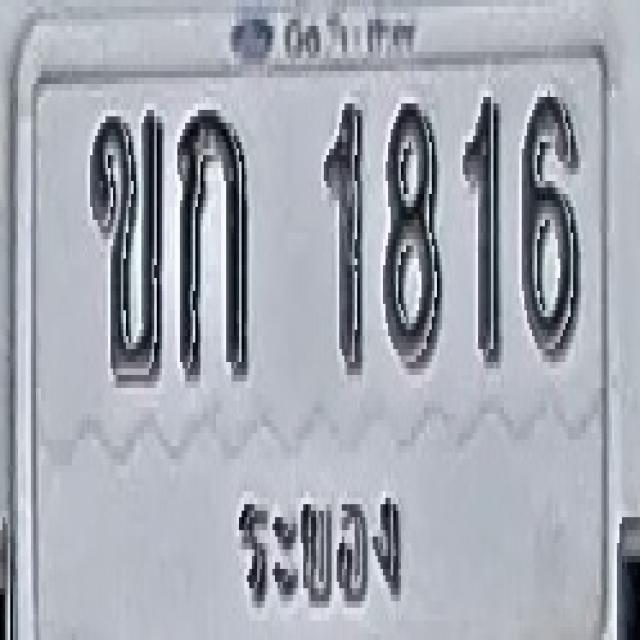1: (322, 97, 363, 375), (463, 94, 501, 365)
6: (522, 90, 578, 356)
8: (383, 97, 442, 368)
A01: (176, 104, 248, 382)
A02: (90, 104, 164, 382)
RYG: (229, 472, 412, 632)
